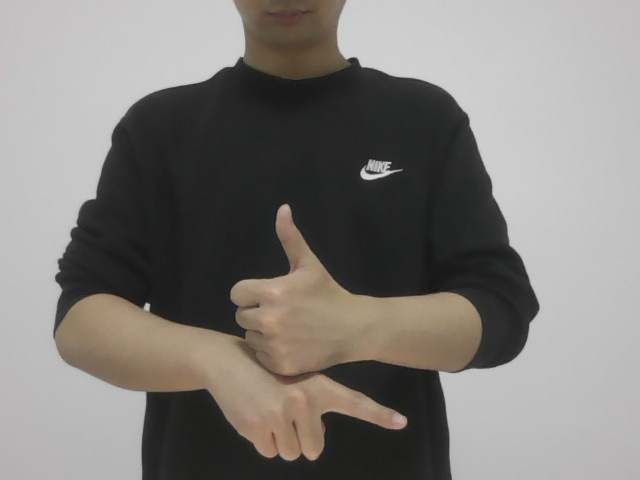birthday: (196, 193, 413, 461)
